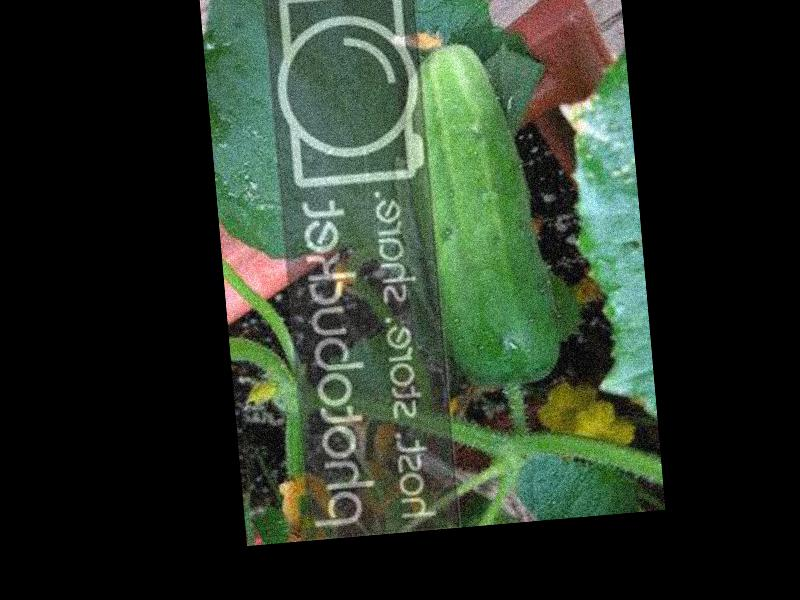Cucumber: (396, 34, 564, 389)
